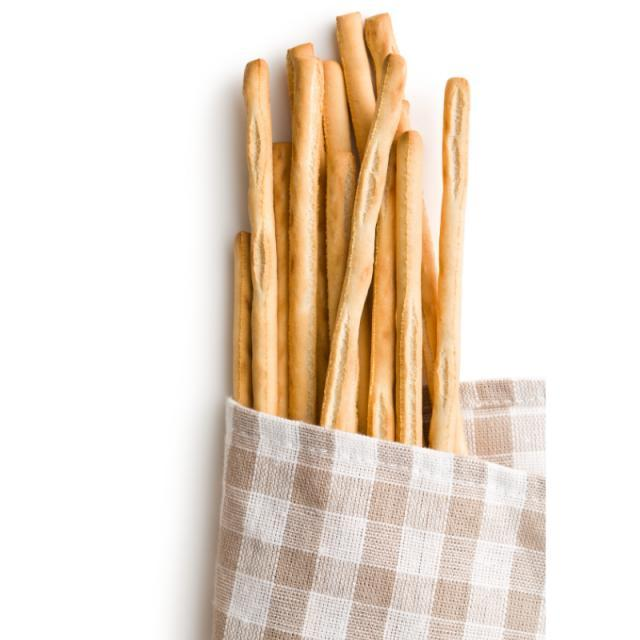Grissini: (228, 11, 482, 451)
